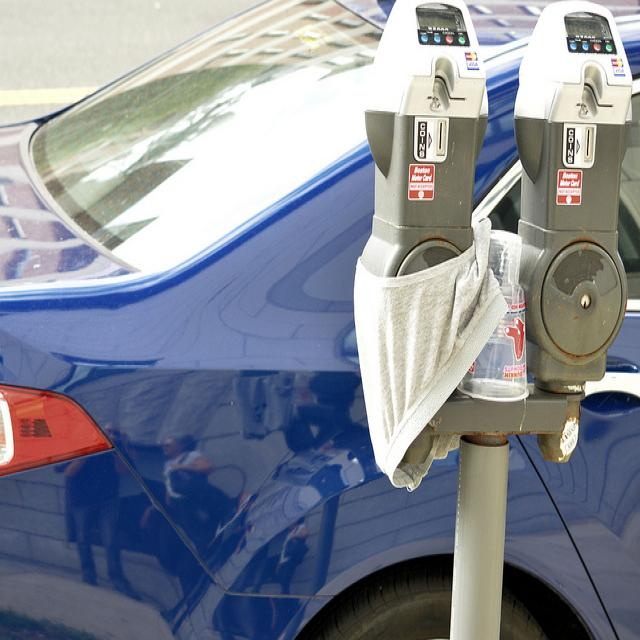Vehicle: (0, 1, 638, 633)
